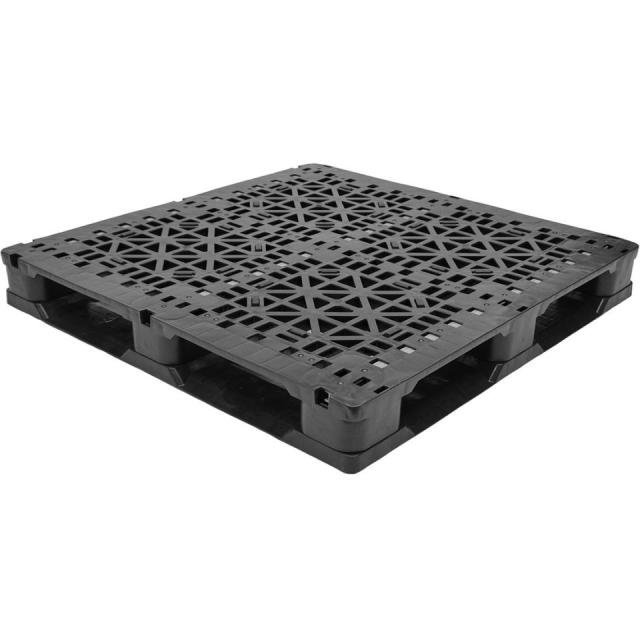non-igps: (0, 156, 640, 478)
